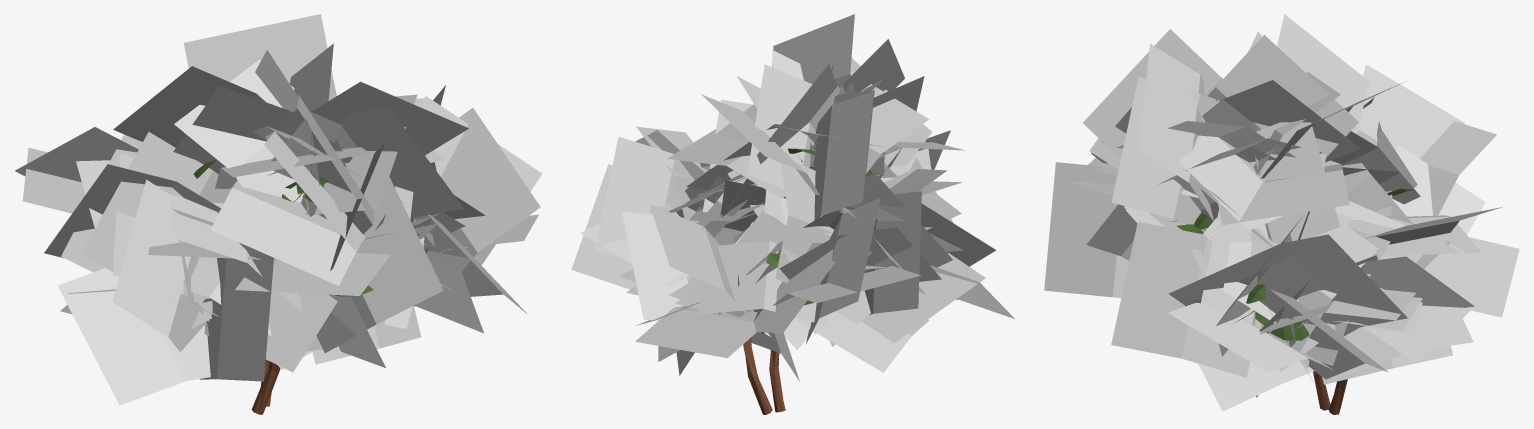
Rendered from Arbousier_Jeune_LOD2.fbx.
The picture shows the model from 3 angles, left to right: view 1: azimuth 30°, elevation 25°; view 2: azimuth 150°, elevation 25°; view 3: azimuth 270°, elevation 25°; orthographic projection. The views are drawn at different scales.
Visible parts, largest first — view 1: Arbousier_Jeune_LOD2; view 2: Arbousier_Jeune_LOD2; view 3: Arbousier_Jeune_LOD2.
Boxes of the visible parts, x1,y1,x2,y2 form: Arbousier_Jeune_LOD2: (15,14,542,414); Arbousier_Jeune_LOD2: (571,14,1014,414); Arbousier_Jeune_LOD2: (1044,14,1519,414).
Bounding box in the file's own units: 310 × 253 × 297.
